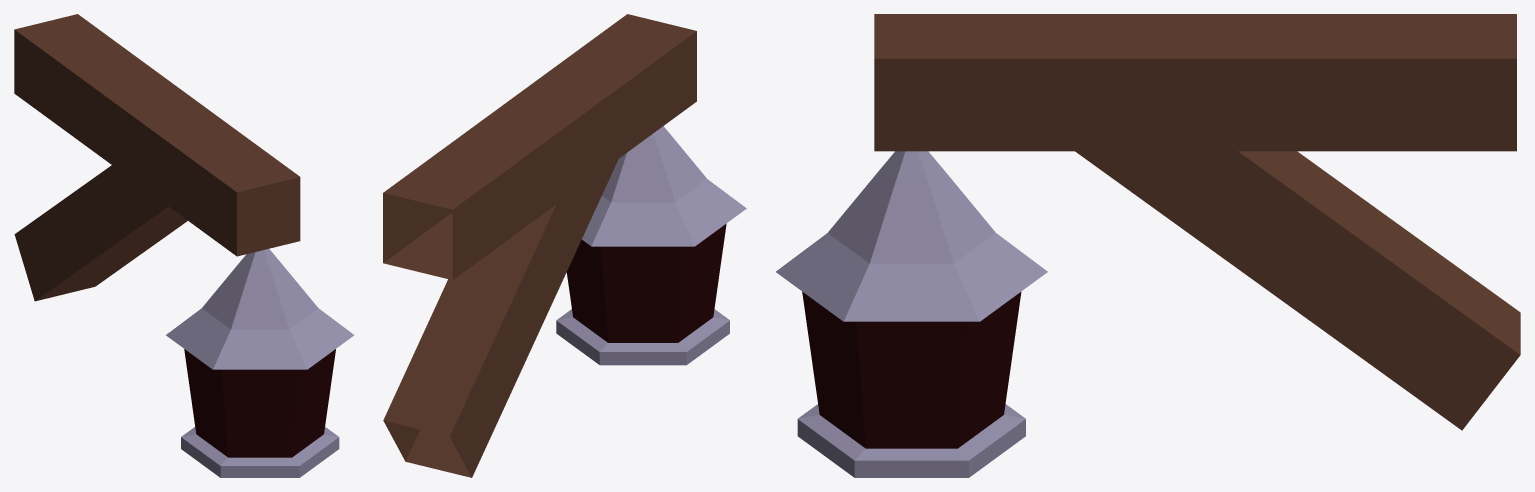
Rendered from lamp.fbx.
3 renders of one model, left to right at view 1: azimuth 30°, elevation 25°; view 2: azimuth 150°, elevation 25°; view 3: azimuth 270°, elevation 25°, orthographic. The views are drawn at different scales.
Parts seen in each view (by area): view 1: lamp; view 2: lamp; view 3: lamp.
Part boxes in pixels (x1=…): lamp: x1=14, y1=14, x2=354, y2=477; lamp: x1=383, y1=14, x2=746, y2=477; lamp: x1=776, y1=14, x2=1520, y2=477.
Bounding box in the file's own units: 43.38 × 84.19 × 137.
